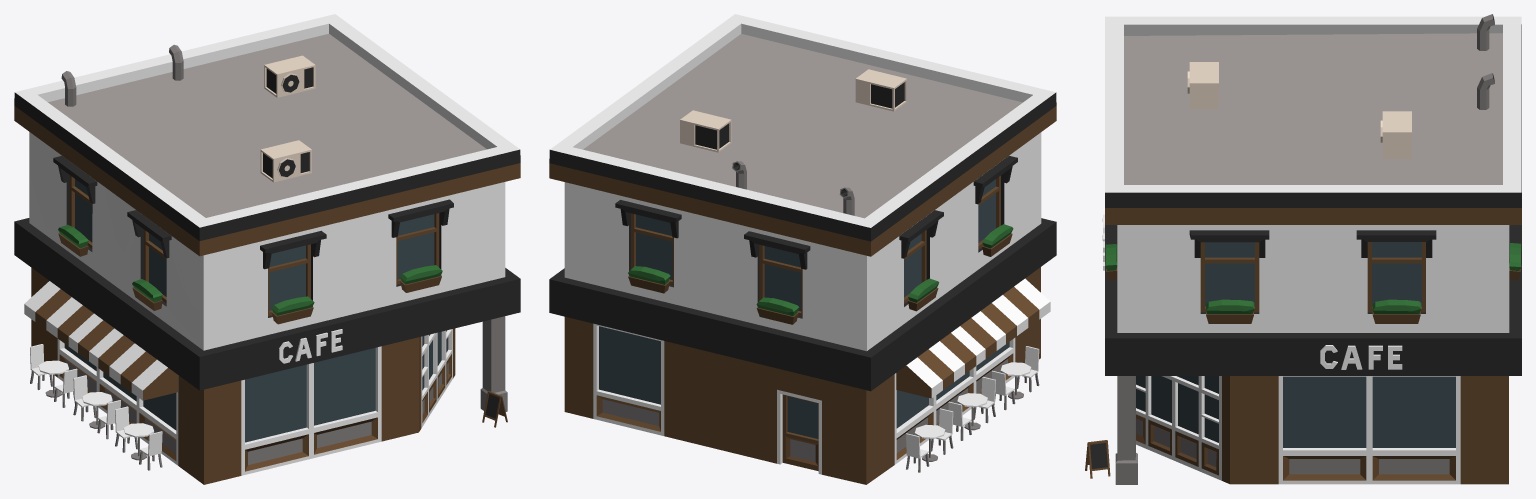
The model's file is buildings_building-cafe.fbx.
3 renders of one model, left to right at view 1: azimuth 30°, elevation 25°; view 2: azimuth 150°, elevation 25°; view 3: azimuth 270°, elevation 25°, orthographic. The views are drawn at different scales.
Parts seen in each view (by area): view 1: buildings_building_cafe; view 2: buildings_building_cafe; view 3: buildings_building_cafe.
Part boxes in pixels (x1,y1,x2,y2): buildings_building_cafe: [14, 14, 520, 484]; buildings_building_cafe: [549, 14, 1056, 484]; buildings_building_cafe: [1085, 14, 1521, 484].
Size of the model in its own units: 200 by 157 by 193.
